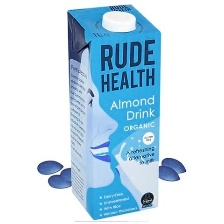carton: (61, 1, 168, 220)
